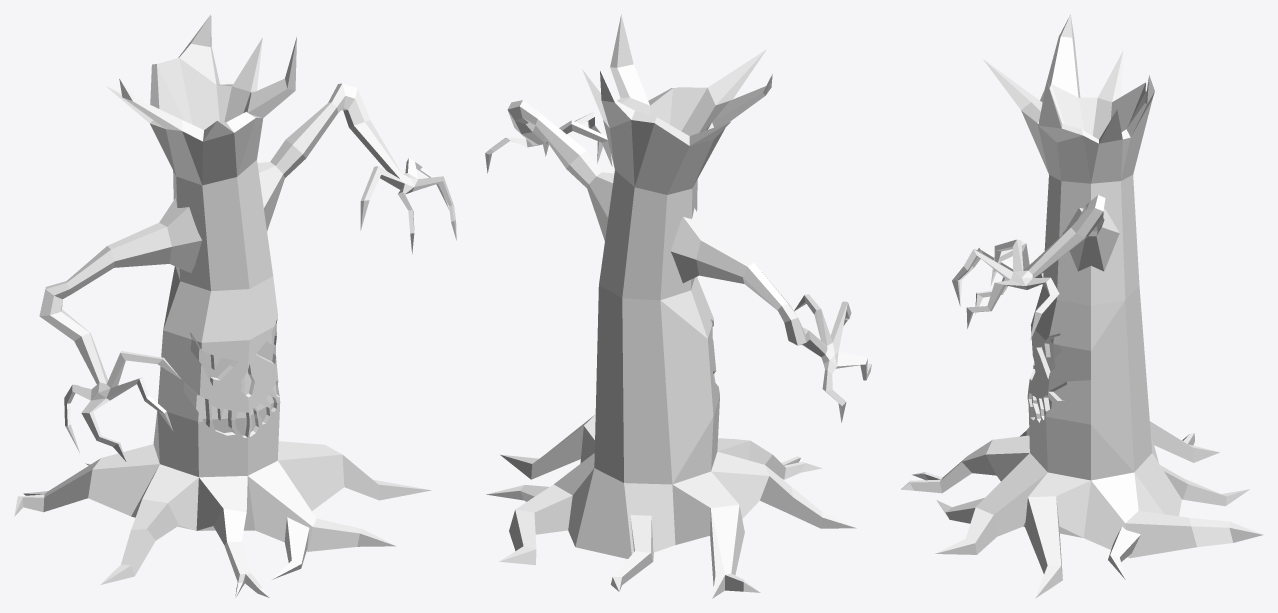
The model's file is large_tree.fbx.
3 views of the same model, side by side, from view 1: azimuth 30°, elevation 25°; view 2: azimuth 150°, elevation 25°; view 3: azimuth 270°, elevation 25° (orthographic). The views are drawn at different scales.
Parts seen in each view (by area): view 1: Spooky Tree_ A; view 2: Spooky Tree_ A; view 3: Spooky Tree_ A.
Boxes of the visible parts, left/top/right/bottom form: Spooky Tree_ A: left=14, top=14, right=456, bottom=598; Spooky Tree_ A: left=485, top=14, right=871, bottom=598; Spooky Tree_ A: left=900, top=14, right=1263, bottom=598.
Size of the model in its own units: 113 by 141 by 99.63.
